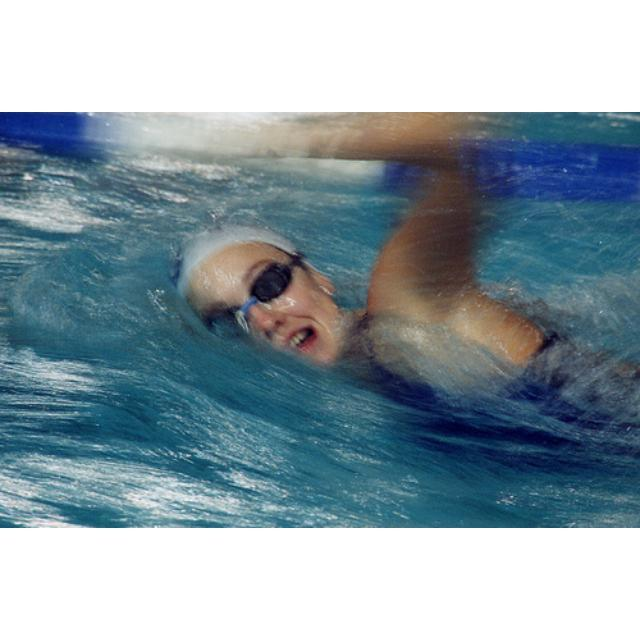human: (143, 116, 639, 464)
